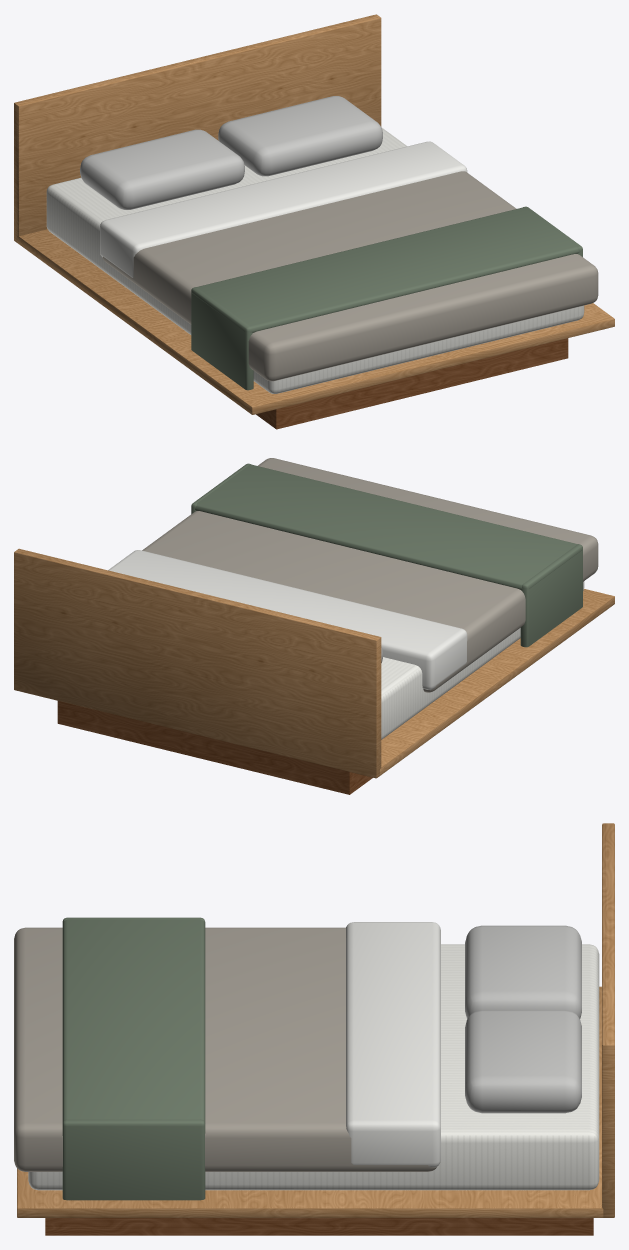
The model's file is low-platform-bed.glb.
The picture shows the model from 3 angles, top to bottom: view 1: azimuth 30°, elevation 25°; view 2: azimuth 150°, elevation 25°; view 3: azimuth 270°, elevation 25°; orthographic projection. The views are drawn at different scales.
Parts seen in each view (by area): view 1: Oak platform frame with low headboard - Frame, oiled oak, Duvet - Duvet cover, warm grey cotton, Throw blanket - Throw blanket, sage knit, Pillows - Pillowcases, pale grey, Sheet turn-down - Sheet turn-down, white cotton, Mattress 160 x 200 - Mattress cover, off-white ticking, Oak platform frame with low headboard - Headboard and plinth; view 2: Oak platform frame with low headboard - Frame, oiled oak, Duvet - Duvet cover, warm grey cotton, Throw blanket - Throw blanket, sage knit, Sheet turn-down - Sheet turn-down, white cotton, Oak platform frame with low headboard - Headboard and plinth, Mattress 160 x 200 - Mattress cover, off-white ticking; view 3: Duvet - Duvet cover, warm grey cotton, Throw blanket - Throw blanket, sage knit, Mattress 160 x 200 - Mattress cover, off-white ticking, Sheet turn-down - Sheet turn-down, white cotton, Pillows - Pillowcases, pale grey, Oak platform frame with low headboard - Frame, oiled oak, Oak platform frame with low headboard - Headboard and plinth.
Boxes of the visible parts, x1,y1,x2,y2 form: Oak platform frame with low headboard - Frame, oiled oak: (14, 14, 614, 414); Duvet - Duvet cover, warm grey cotton: (102, 171, 598, 381); Throw blanket - Throw blanket, sage knit: (191, 206, 582, 390); Pillows - Pillowcases, pale grey: (80, 96, 382, 209); Sheet turn-down - Sheet turn-down, white cotton: (100, 141, 467, 277); Mattress 160 x 200 - Mattress cover, off-white ticking: (46, 127, 584, 393); Oak platform frame with low headboard - Headboard and plinth: (256, 338, 568, 429); Oak platform frame with low headboard - Frame, oiled oak: (14, 548, 614, 778); Duvet - Duvet cover, warm grey cotton: (142, 458, 598, 692); Throw blanket - Throw blanket, sage knit: (191, 463, 582, 647); Sheet turn-down - Sheet turn-down, white cotton: (108, 550, 467, 689); Oak platform frame with low headboard - Headboard and plinth: (57, 701, 372, 794); Mattress 160 x 200 - Mattress cover, off-white ticking: (381, 581, 584, 739); Duvet - Duvet cover, warm grey cotton: (14, 927, 436, 1171); Throw blanket - Throw blanket, sage knit: (62, 917, 205, 1200); Mattress 160 x 200 - Mattress cover, off-white ticking: (28, 944, 599, 1190); Sheet turn-down - Sheet turn-down, white cotton: (346, 922, 440, 1167); Pillows - Pillowcases, pale grey: (465, 925, 581, 1113); Oak platform frame with low headboard - Frame, oiled oak: (17, 823, 614, 1217); Oak platform frame with low headboard - Headboard and plinth: (45, 1218, 593, 1235).
Size of the model in its own units: 1.84 by 0.82 by 2.11.
Materials: 7 (7 with a texture image).
